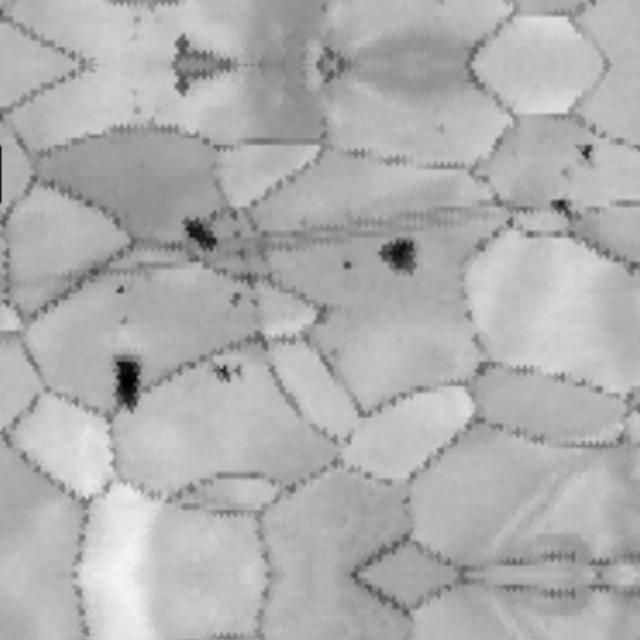good_void: (108, 355, 145, 417), (378, 237, 420, 278), (181, 217, 218, 254), (549, 198, 574, 223), (207, 363, 232, 385), (571, 145, 599, 164), (172, 74, 192, 98), (172, 33, 192, 57), (559, 163, 578, 183), (227, 292, 242, 309), (116, 315, 129, 330), (504, 216, 515, 229), (132, 14, 143, 26), (233, 364, 243, 377), (132, 106, 143, 117), (250, 299, 260, 310), (115, 285, 125, 295), (343, 261, 352, 272)
